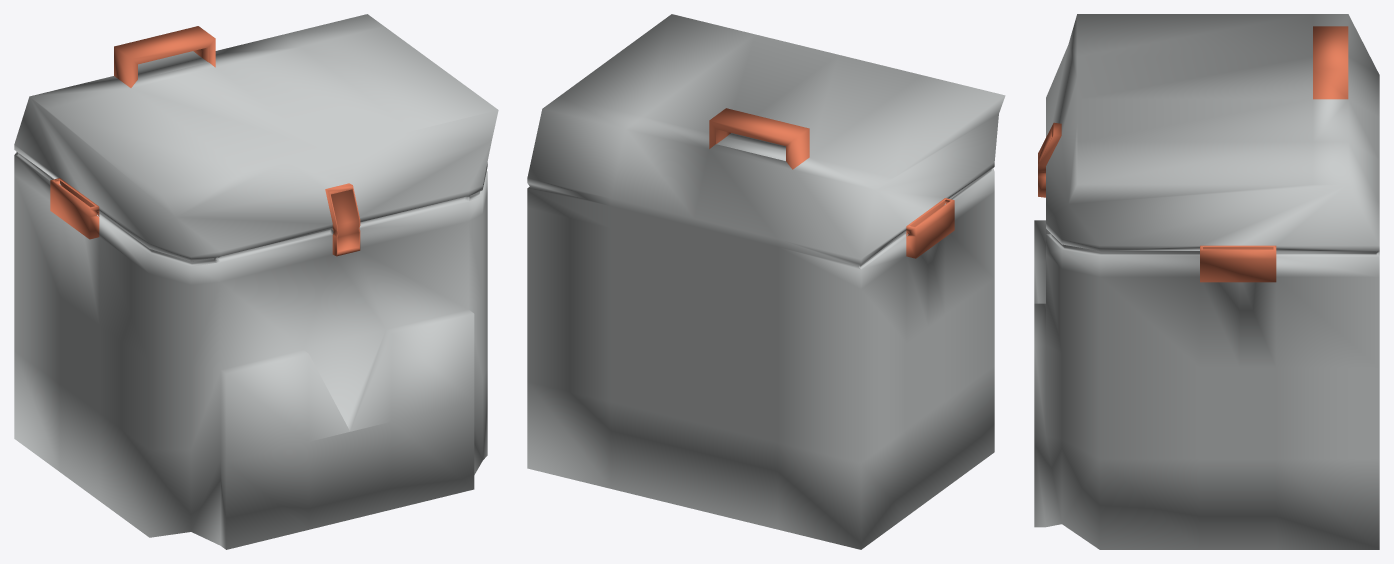
The picture shows the model from 3 angles, left to right: view 1: azimuth 30°, elevation 25°; view 2: azimuth 150°, elevation 25°; view 3: azimuth 270°, elevation 25°; orthographic projection. The views are drawn at different scales.
Parts seen in each view (by area): view 1: Cube; view 2: Cube; view 3: Cube.
Boxes of the visible parts, x1=… form: Cube: x1=14, y1=14, x2=498, y2=549; Cube: x1=527, y1=14, x2=1005, y2=549; Cube: x1=1034, y1=14, x2=1379, y2=549.
Size of the model in its own units: 0.3177 by 0.3245 by 0.2565.
